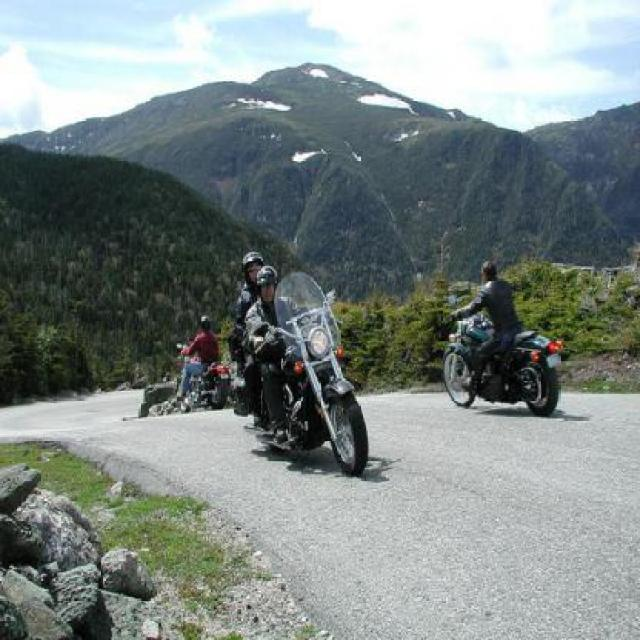Person: (449, 258, 520, 397), (234, 250, 261, 418), (174, 314, 218, 398), (239, 264, 279, 350)
